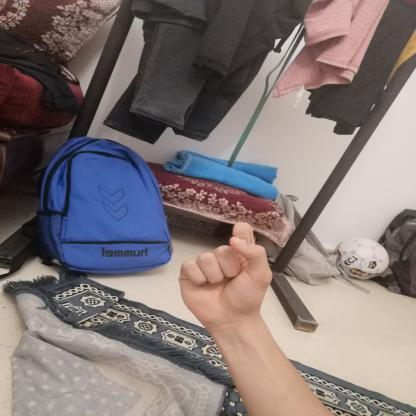FAA: (164, 215, 286, 338)
